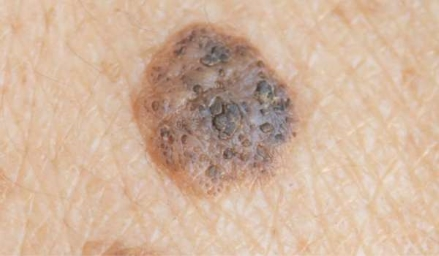seborrheic keratosis: (121, 18, 311, 206)
